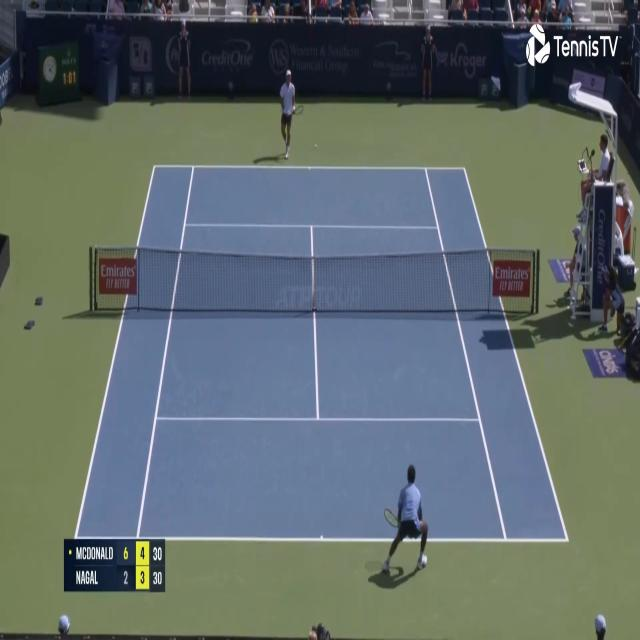tennis-player: (379, 462, 431, 582), (278, 66, 303, 162)
